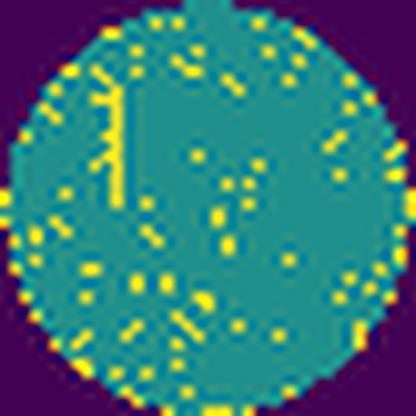Scratch: (83, 62, 131, 213)
